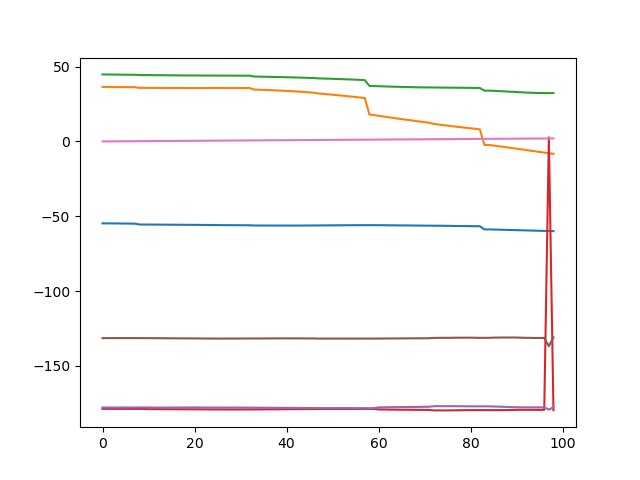Too_Slow: (3, 1, 640, 480)
